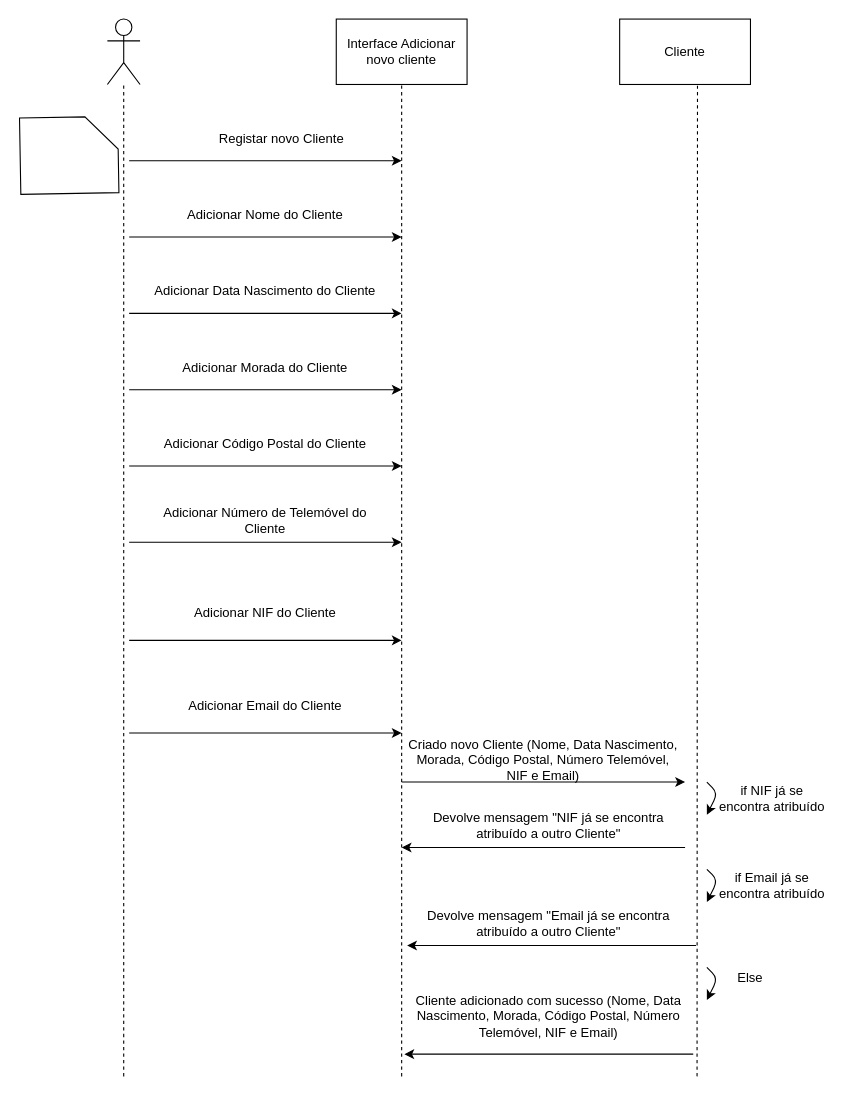
Some shapes in this 846 by 1097 pixel diagram are drawn without their labels. The centre of each missing label's shape, as x and y in pixels:
"Administrador" belongs at (123,51).
"Login Válido" belongs at (68,154).
